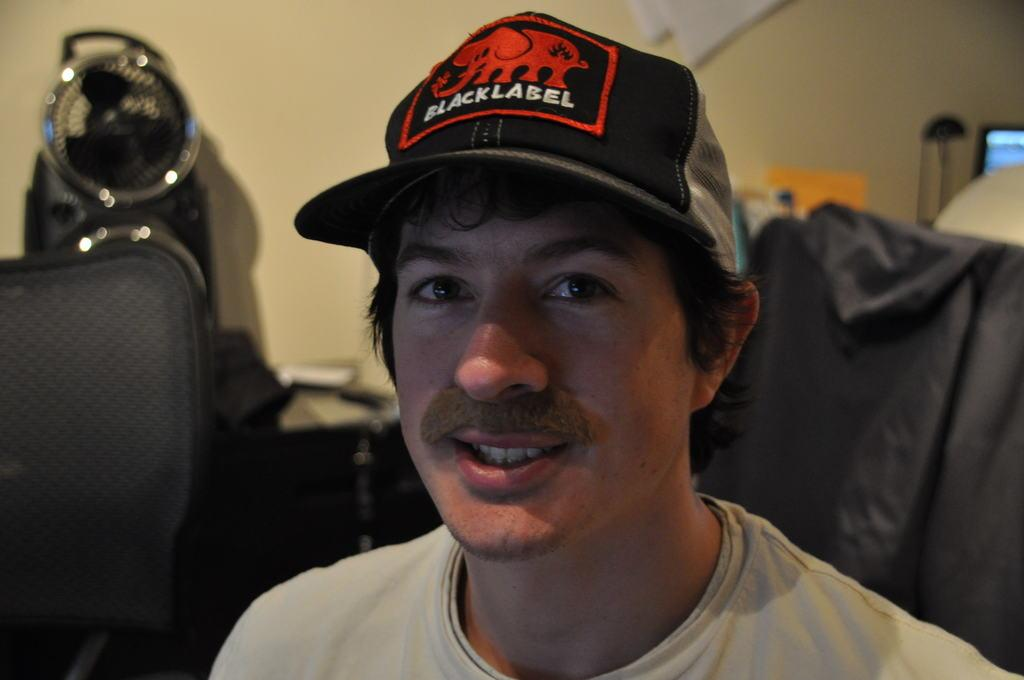Hat: (292, 13, 744, 290)
